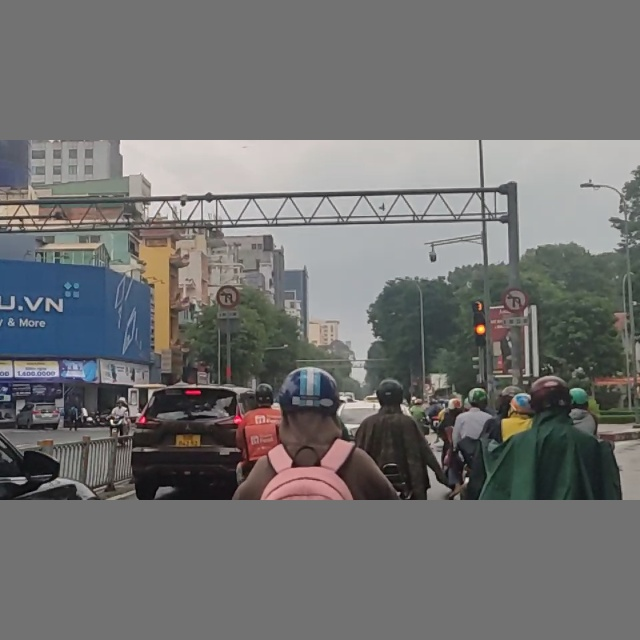P.124c: (215, 285, 238, 308), (505, 290, 527, 312)
